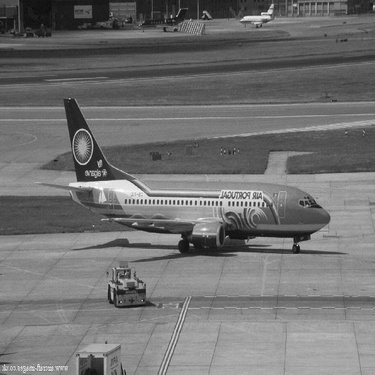airplane: (33, 90, 338, 260), (232, 2, 286, 34)
